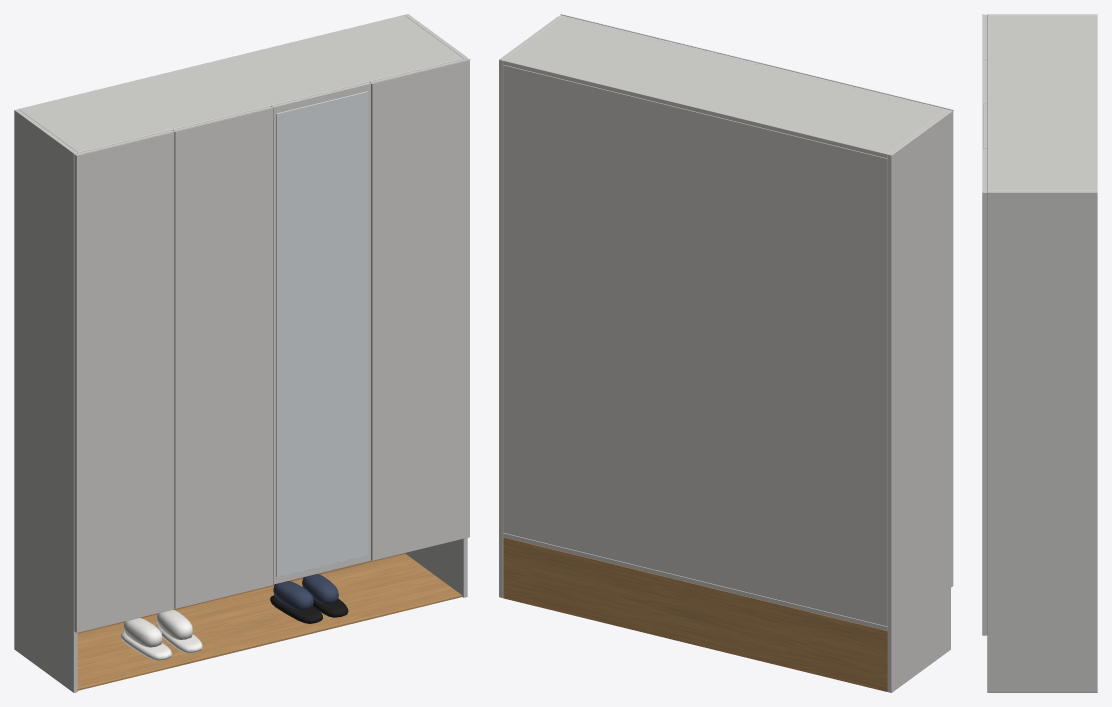
File: shoe_cabinet.glb
The picture shows the model from 3 angles, left to right: view 1: azimuth 30°, elevation 25°; view 2: azimuth 150°, elevation 25°; view 3: azimuth 270°, elevation 25°; orthographic projection. The views are drawn at different scales.
Visible parts, largest first — view 1: shoe_cabinet_doors, shoe_cabinet_carcass, shoe_cabinet_mirror, shoe_cabinet_niche, shoe_cabinet_shoes, shoe_cabinet_top_trim; view 2: shoe_cabinet_carcass, shoe_cabinet_niche, shoe_cabinet_doors, shoe_cabinet_top_trim; view 3: shoe_cabinet_carcass, shoe_cabinet_doors, shoe_cabinet_top_trim.
Part boxes in pixels (<box>): shoe_cabinet_doors: <box>74,58,469,632</box>; shoe_cabinet_carcass: <box>14,14,467,692</box>; shoe_cabinet_mirror: <box>276,91,368,577</box>; shoe_cabinet_niche: <box>77,553,462,690</box>; shoe_cabinet_shoes: <box>121,574,348,660</box>; shoe_cabinet_top_trim: <box>76,59,470,155</box>; shoe_cabinet_carcass: <box>499,16,950,692</box>; shoe_cabinet_niche: <box>503,537,887,691</box>; shoe_cabinet_doors: <box>559,15,953,587</box>; shoe_cabinet_top_trim: <box>560,14,953,110</box>; shoe_cabinet_carcass: <box>987,14,1097,692</box>; shoe_cabinet_doors: <box>982,14,987,635</box>; shoe_cabinet_top_trim: <box>982,14,983,192</box>.
Size of the model in its own units: 1.68 by 2.2 by 0.4605.
8 materials, 1 textured.
